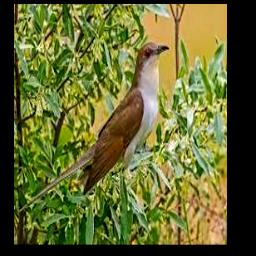Cuckoo: (19, 41, 170, 213)
